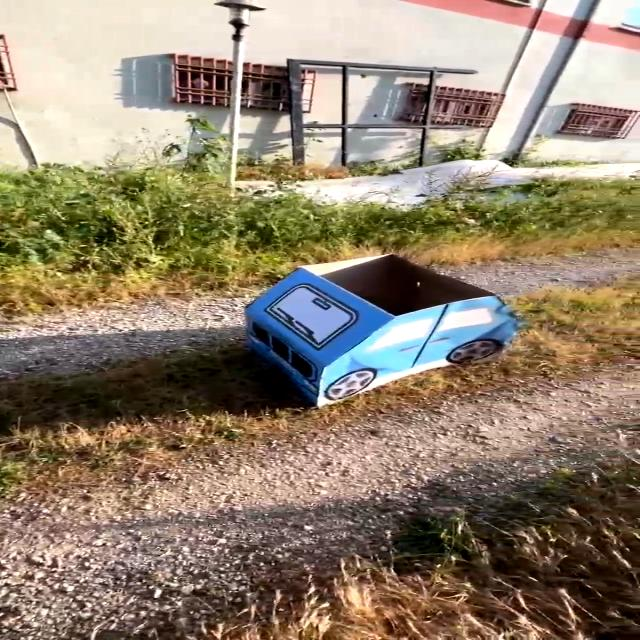blue_car: (199, 228, 563, 437)
